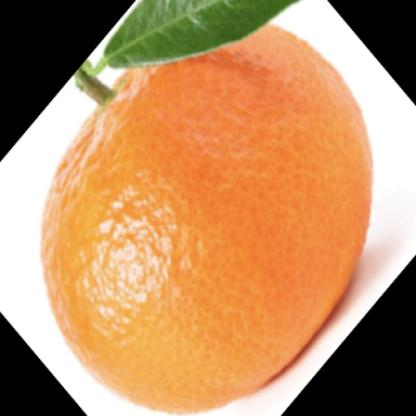fresh: (44, 17, 373, 406)
